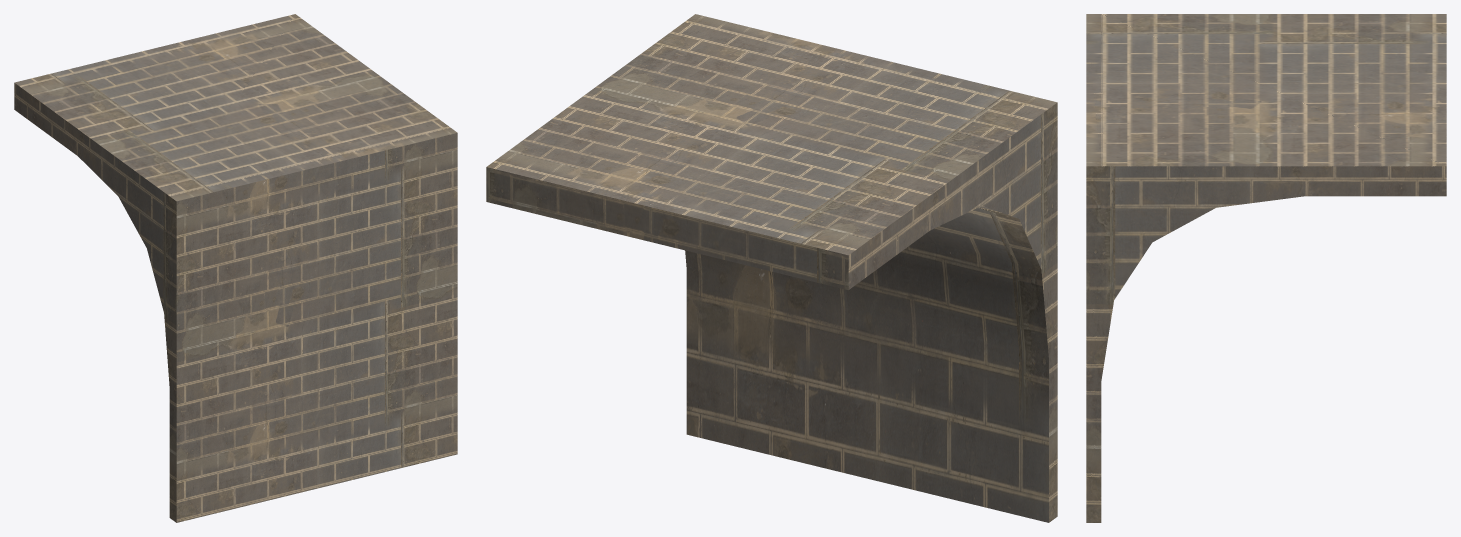
The model's file is Wall_dome_mitte001.fbx.
3 renders of one model, left to right at view 1: azimuth 30°, elevation 25°; view 2: azimuth 150°, elevation 25°; view 3: azimuth 270°, elevation 25°, orthographic. The views are drawn at different scales.
Visible parts, largest first — view 1: Wall_dome_mitte001; view 2: Wall_dome_mitte001; view 3: Wall_dome_mitte001.
Part boxes in pixels (x1,y1,x2,y2): Wall_dome_mitte001: (14, 14, 457, 522); Wall_dome_mitte001: (486, 14, 1057, 522); Wall_dome_mitte001: (1086, 14, 1446, 522).
Bounding box in the file's own units: 600 × 656 × 600.
